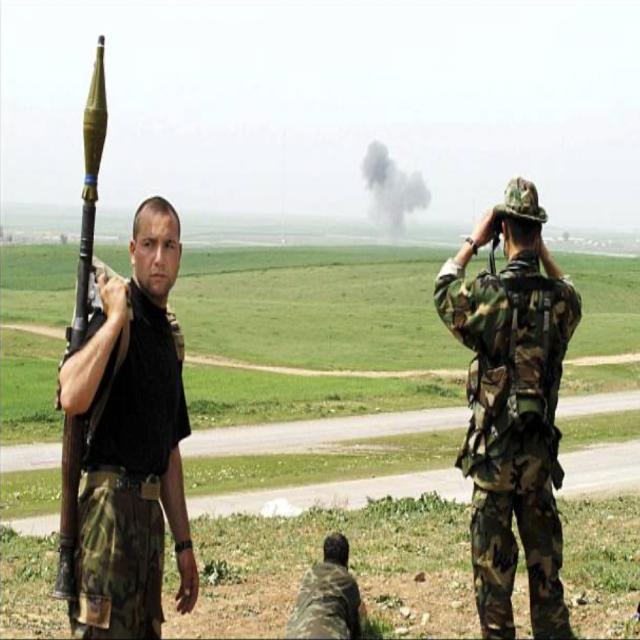bazooka: (52, 32, 118, 597)
